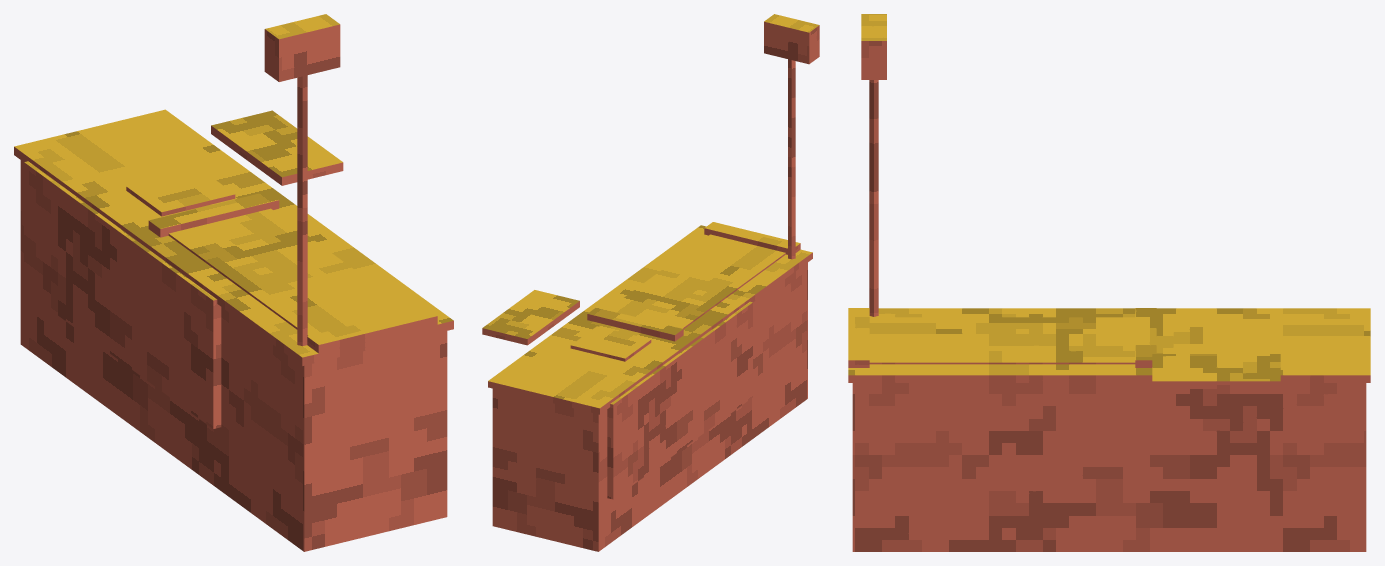
The model's file is checkout.fbx.
3 renders of one model, left to right at view 1: azimuth 30°, elevation 25°; view 2: azimuth 150°, elevation 25°; view 3: azimuth 270°, elevation 25°, orthographic. The views are drawn at different scales.
Parts seen in each view (by area): view 1: checkout; view 2: checkout; view 3: checkout.
Part boxes in pixels (x1,y1,x2,y2): checkout: (14,14,453,551); checkout: (482,14,819,551); checkout: (848,14,1370,551).
Bounding box in the file's own units: 110 × 240 × 244.
